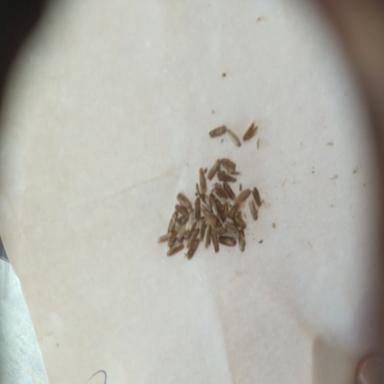pbw: (250, 187, 264, 213), (202, 206, 219, 227), (242, 121, 258, 141), (206, 157, 220, 179), (166, 240, 184, 256), (215, 170, 236, 183), (212, 183, 230, 198), (225, 130, 241, 146), (176, 192, 192, 208), (198, 166, 207, 194), (210, 228, 220, 252), (233, 216, 248, 232), (234, 189, 250, 204), (174, 204, 189, 219), (220, 158, 235, 173), (187, 240, 200, 257), (168, 210, 178, 232), (187, 228, 199, 246), (185, 209, 194, 232), (248, 200, 258, 220), (224, 182, 235, 200), (208, 126, 226, 137), (204, 224, 212, 247), (209, 196, 218, 216), (201, 194, 212, 210), (175, 223, 186, 239), (210, 225, 227, 235), (167, 231, 177, 248), (224, 221, 238, 233), (174, 216, 188, 228), (222, 227, 237, 238), (218, 235, 234, 245), (194, 198, 201, 220), (238, 229, 245, 250), (200, 213, 205, 240), (228, 204, 237, 218), (172, 218, 181, 232), (202, 205, 212, 217), (216, 198, 224, 212), (223, 202, 229, 220), (157, 234, 169, 242), (226, 217, 235, 224)
